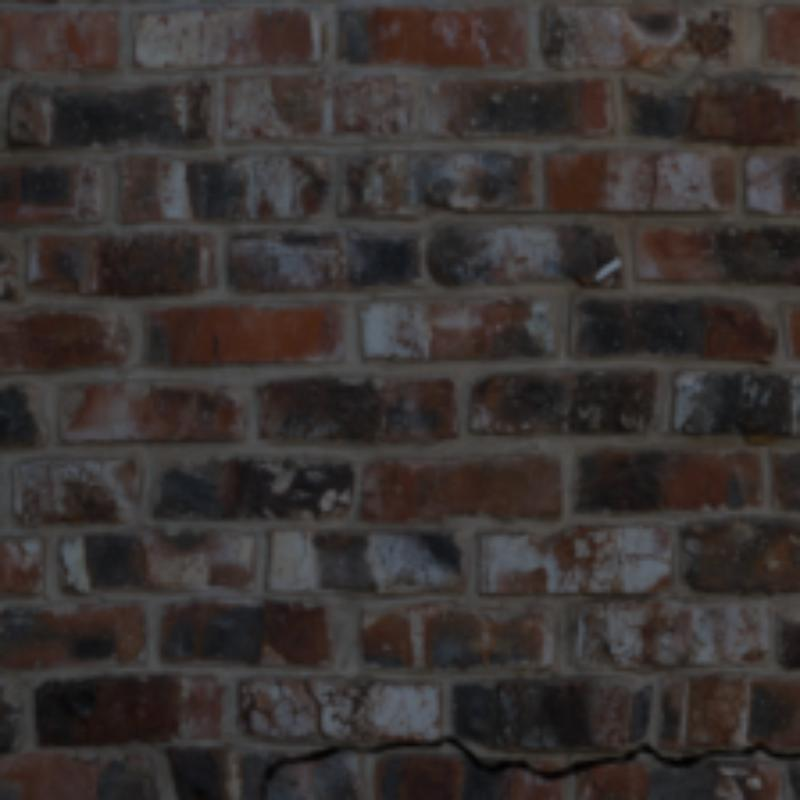crack: (261, 736, 796, 796), (304, 682, 329, 739), (646, 154, 661, 207)
